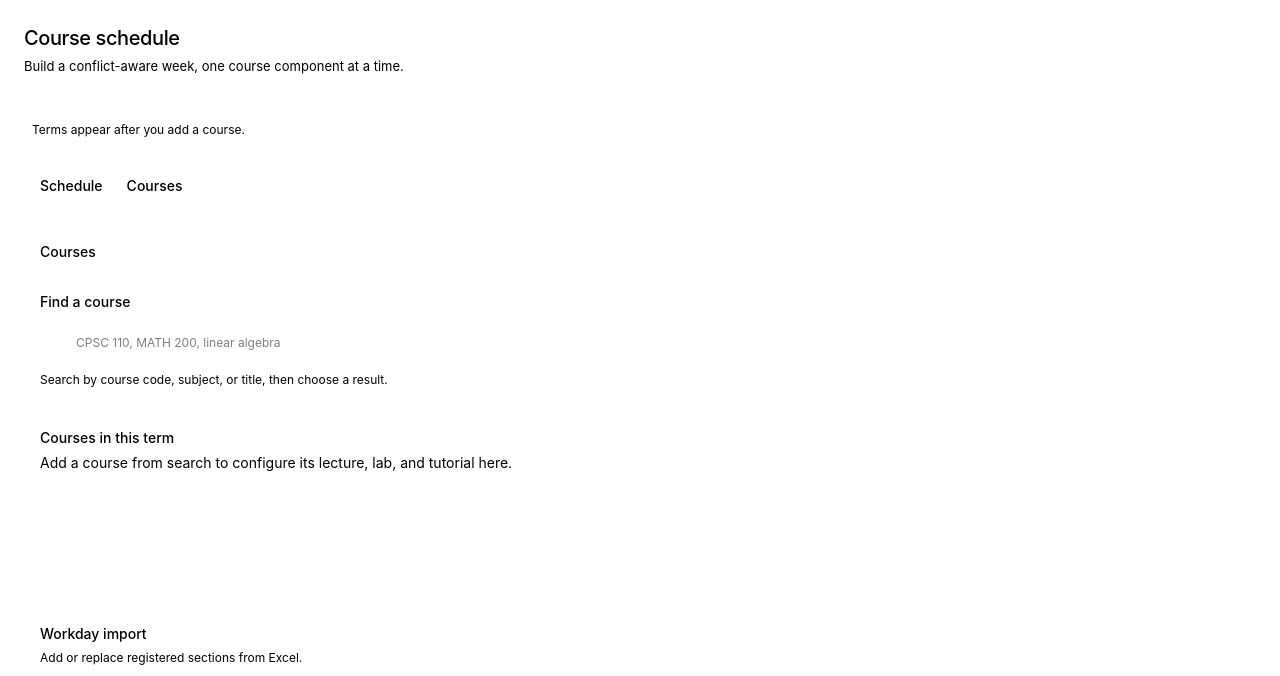
Test: SchedulePlannerPane explicit course flow › retains the query and exposes retry after a failed commit
In the dropdown named "Find a course to schedule": (640, 342) [40,320,1240,364], type "CPSC"
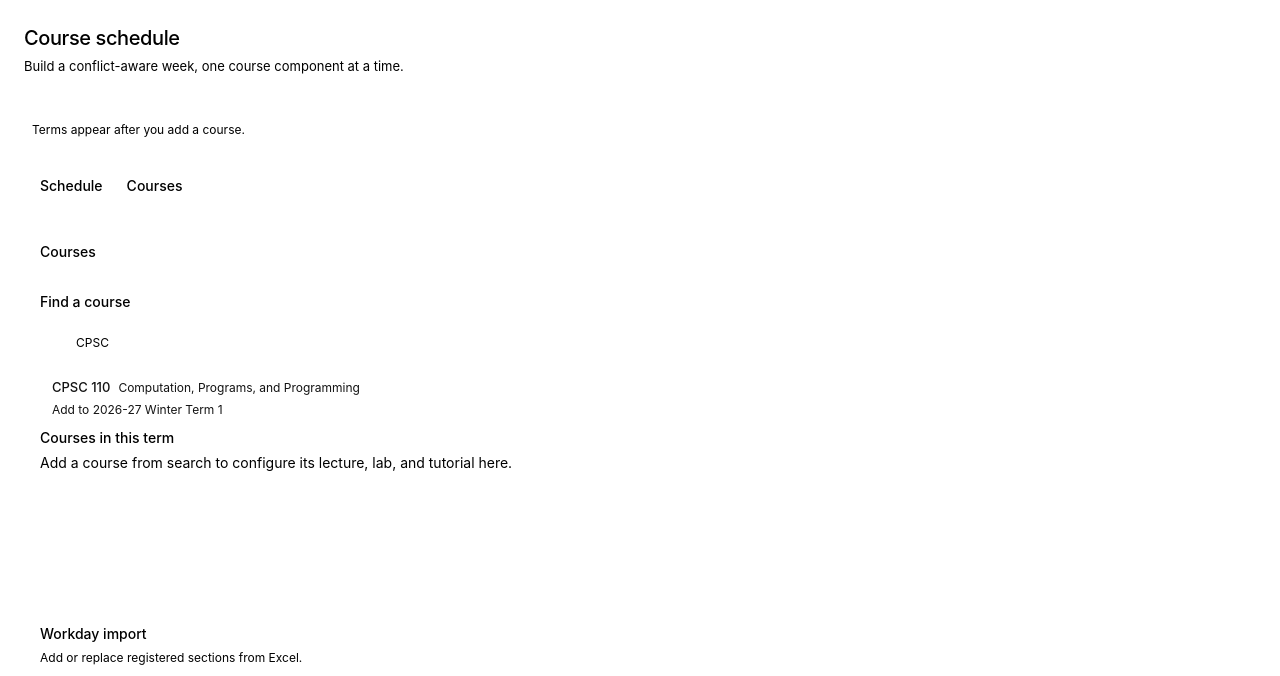
Click the option: (81, 387) [40,372,1240,423]
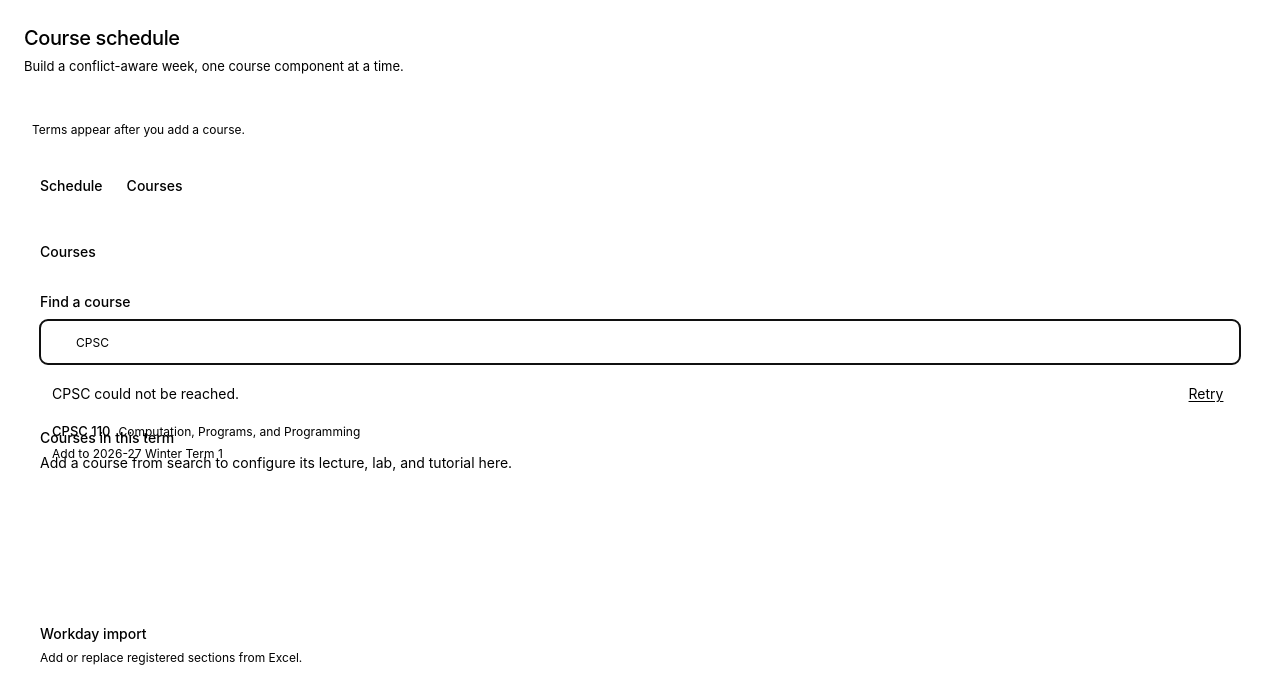
Now the message "CPSC could not be reached. Retry" is shown, box [40,372,1240,416]
Now the button "Retry" is shown, box [1184,372,1228,416]
